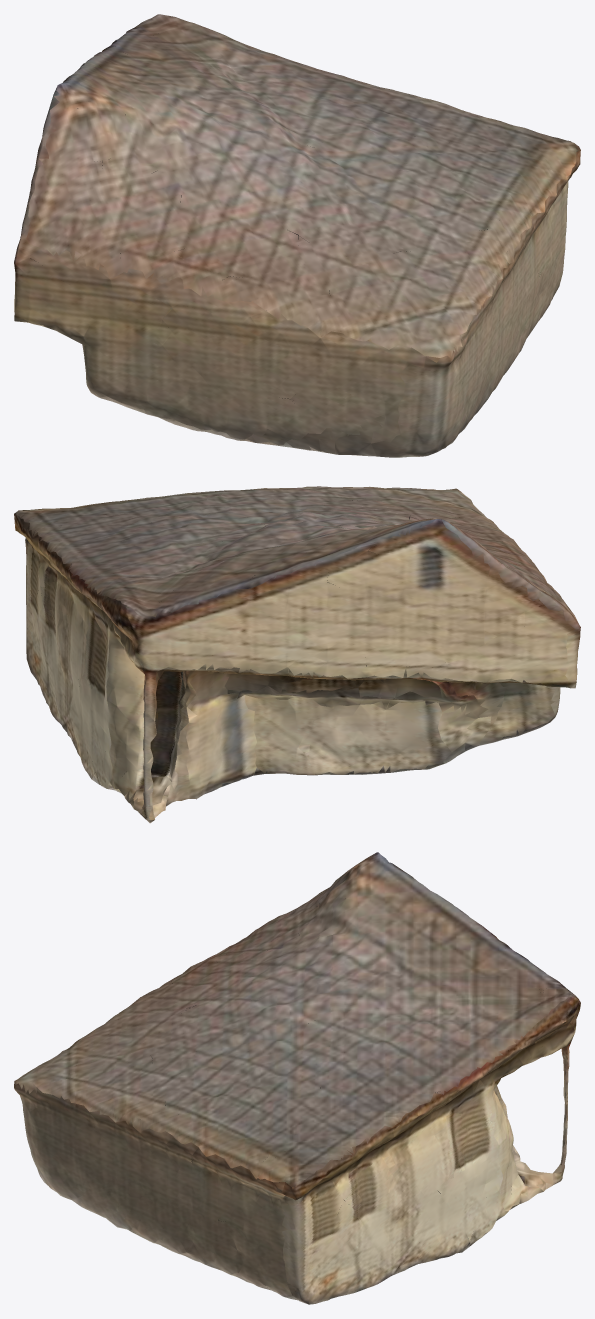
The model's file is tmpppuu47gt.glb.
3 renders of one model, top to bottom at view 1: azimuth 30°, elevation 25°; view 2: azimuth 150°, elevation 25°; view 3: azimuth 270°, elevation 25°, orthographic. The views are drawn at different scales.
Parts seen in each view (by area): view 1: world; view 2: world; view 3: world.
Boxes of the visible parts, <box> form: world: <box>14,14,580,457</box>; world: <box>14,486,580,823</box>; world: <box>14,852,580,1304</box>.
Bounding box in the file's own units: 0.9893 × 0.502 × 0.9622.
Materials: 1 (1 with a texture image).
